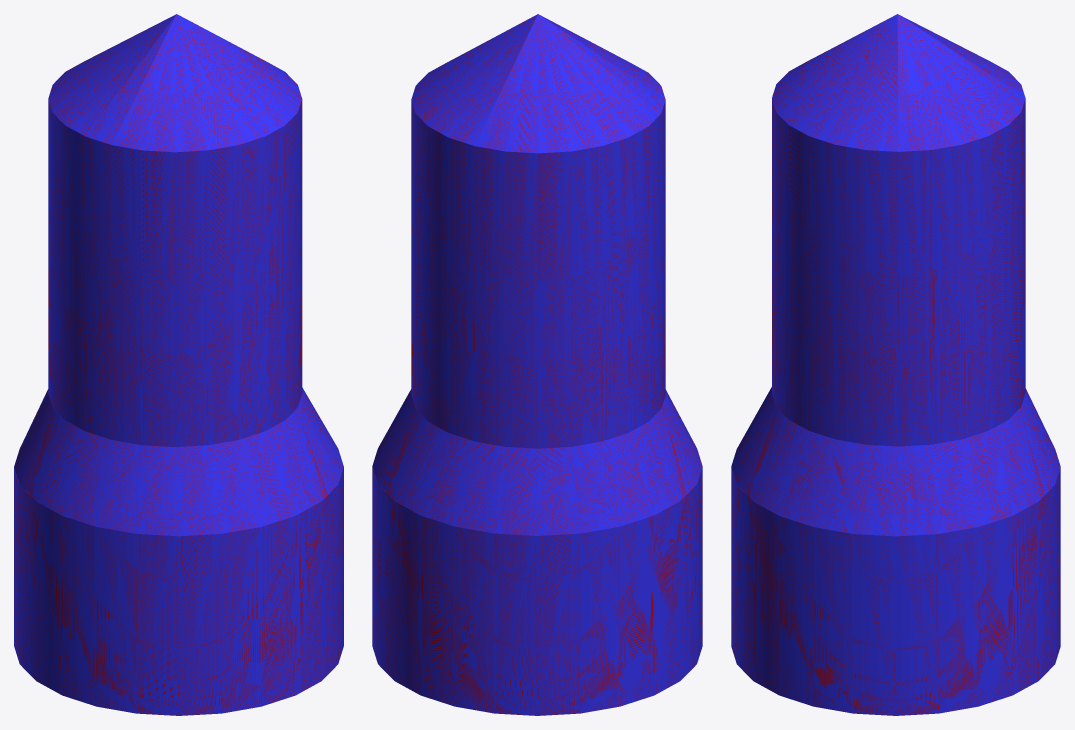
File: blue_buoy_marker.dae
3 views of the same model, side by side, from view 1: azimuth 30°, elevation 25°; view 2: azimuth 150°, elevation 25°; view 3: azimuth 270°, elevation 25° (orthographic).
Visible parts, largest first — view 1: SketchUp (×3); view 2: SketchUp (×3); view 3: SketchUp (×3).
Boxes of the visible parts, <box> form: SketchUp (×3): <box>14,14,343,715</box>; SketchUp (×3): <box>372,14,702,715</box>; SketchUp (×3): <box>731,14,1060,715</box>.
Bounding box in the file's own units: 37 × 37 × 78.25.
